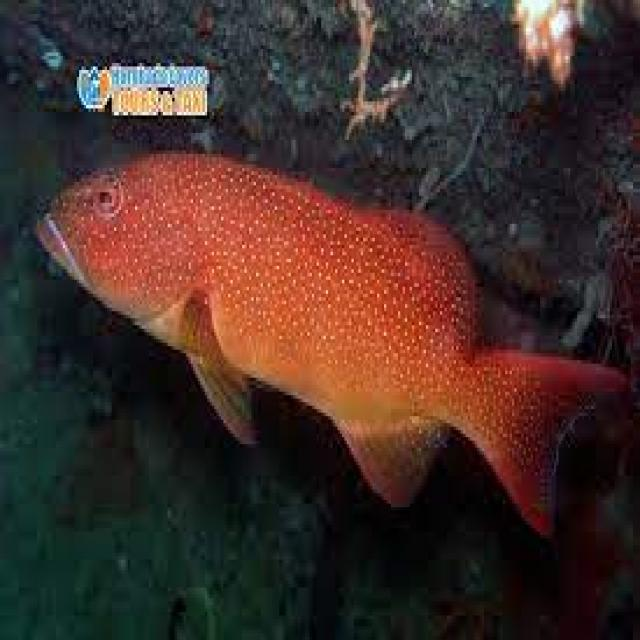Leopard coral grouper: (30, 136, 631, 542)
